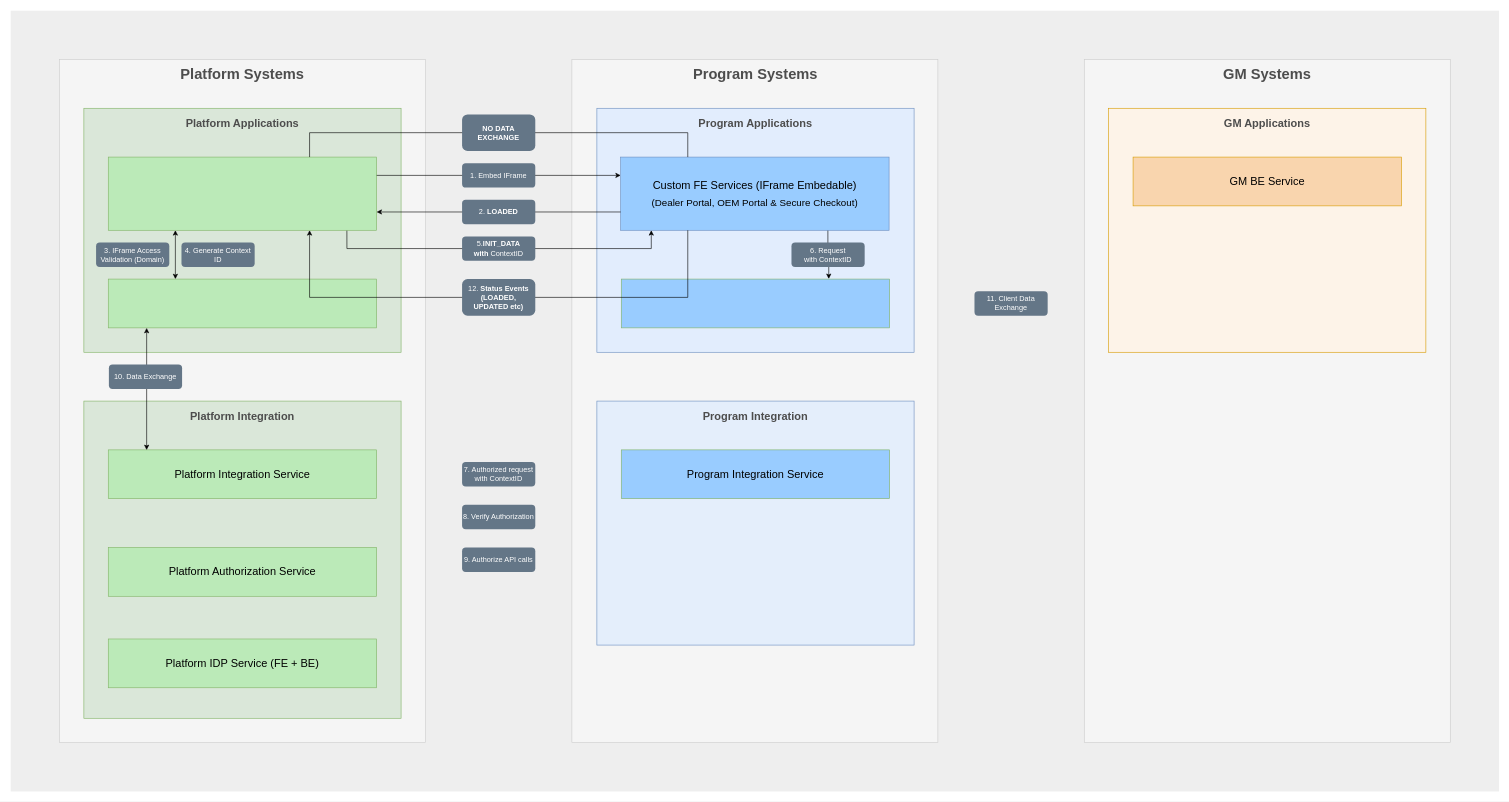
This 1509x802 diagram has some shape labels left out. The centre of each missing label's shape, as x and y in pixels:
"Custom BE Services" goes at pixel 755 303.
"Platform BE Services" goes at pixel 242 303.
"Platform FE Services (Dealer Portal, OEM Portal & Secure Checkout)" goes at pixel 242 193.
